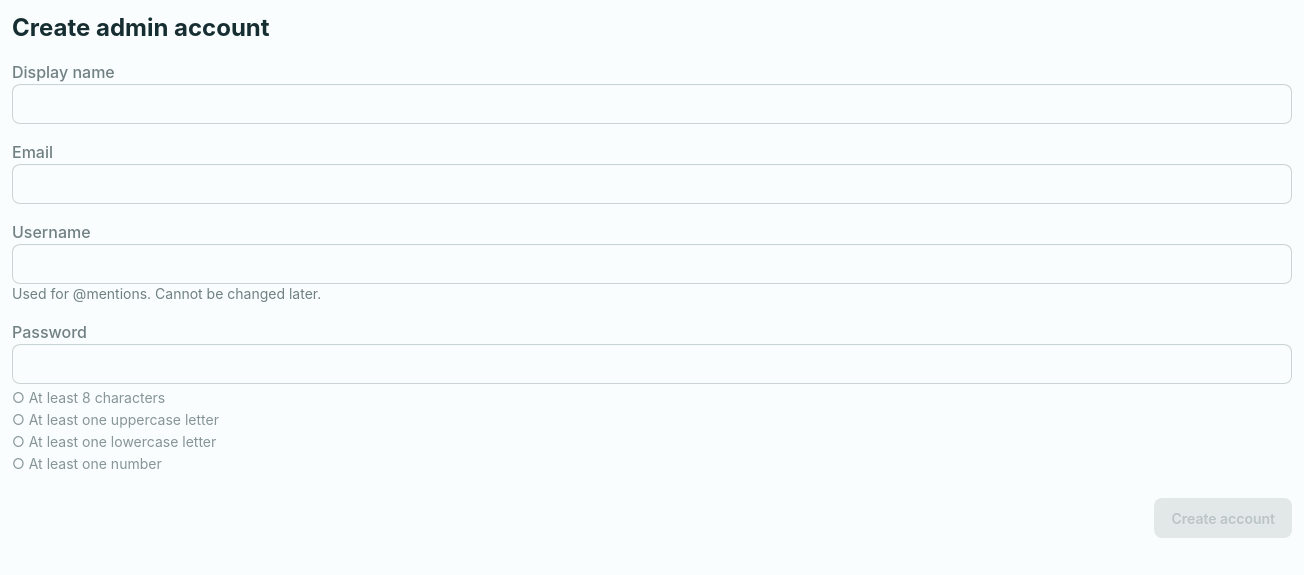
first administrator step: username › shows a server rejection on the username field
In the field with id "admin-name": (652,104) 12,84 -> 1292,124, type "Root"
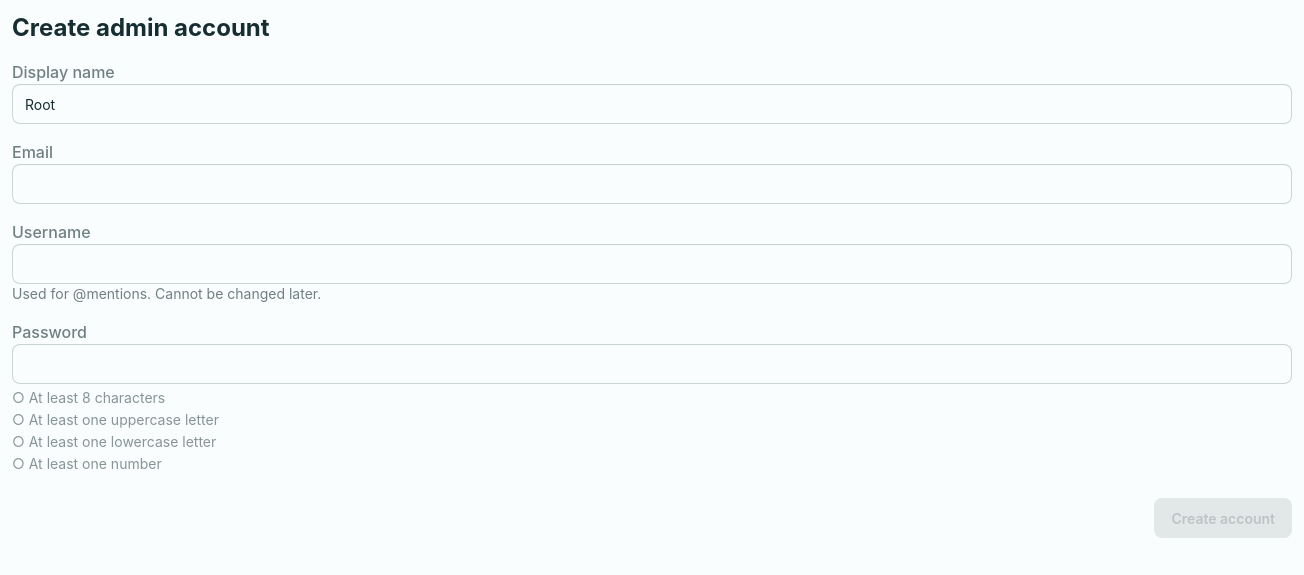
In the field with id "admin-email": (652,184) 12,164 -> 1292,204, type "admin@example.com"
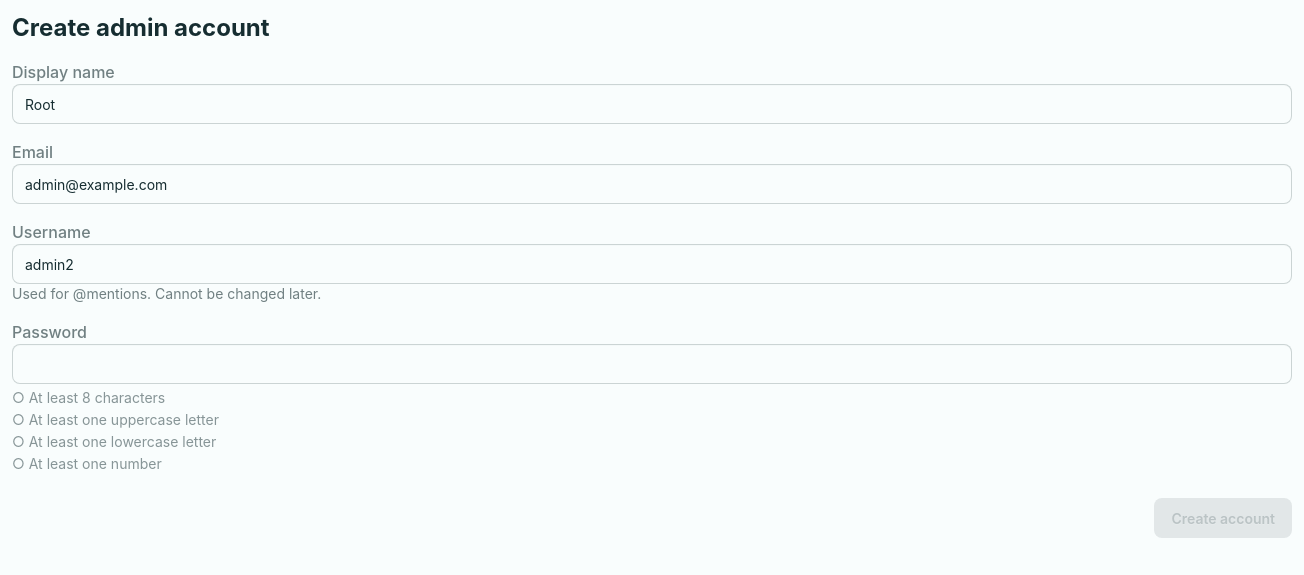
In the password field with id "admin-password": (652,364) 12,344 -> 1292,384, type "Passw0rd!x"
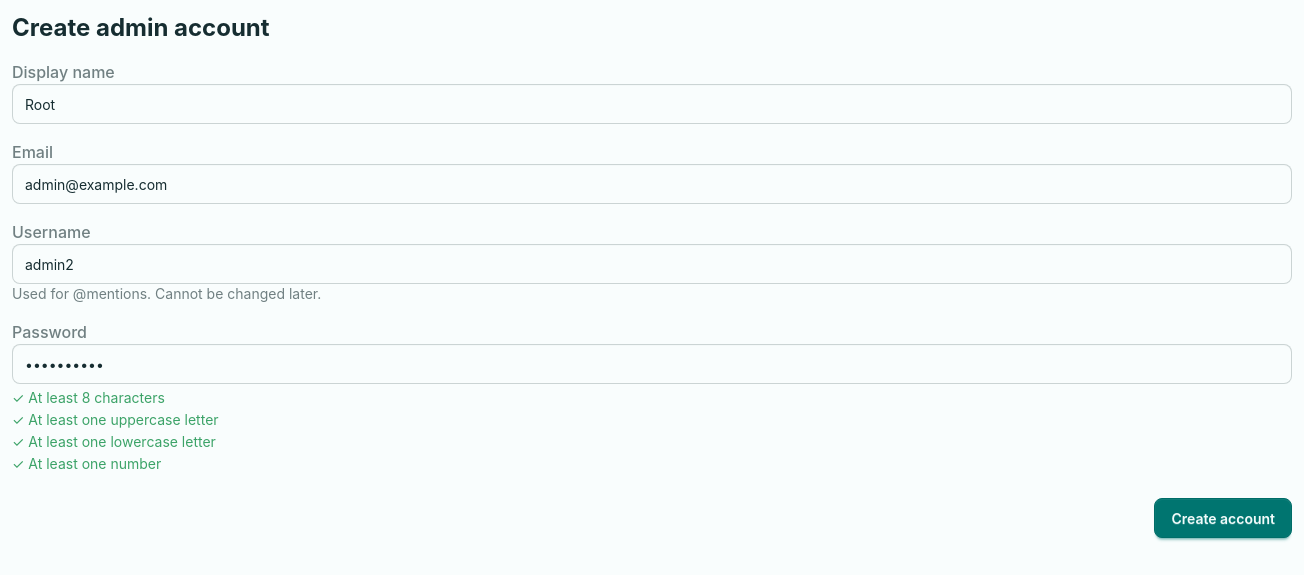
Replace the text in the field with id "admin-username" with "root_user": (652,264) 12,244 -> 1292,284
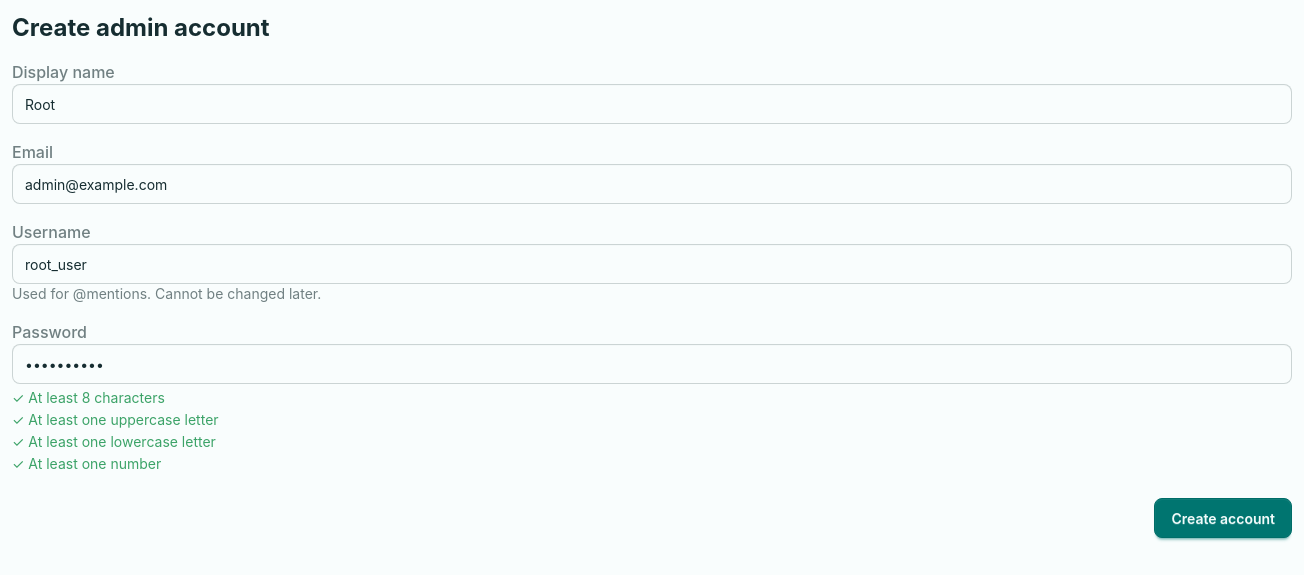
Click the button "Create account": (1223,518) 1154,498 -> 1292,538
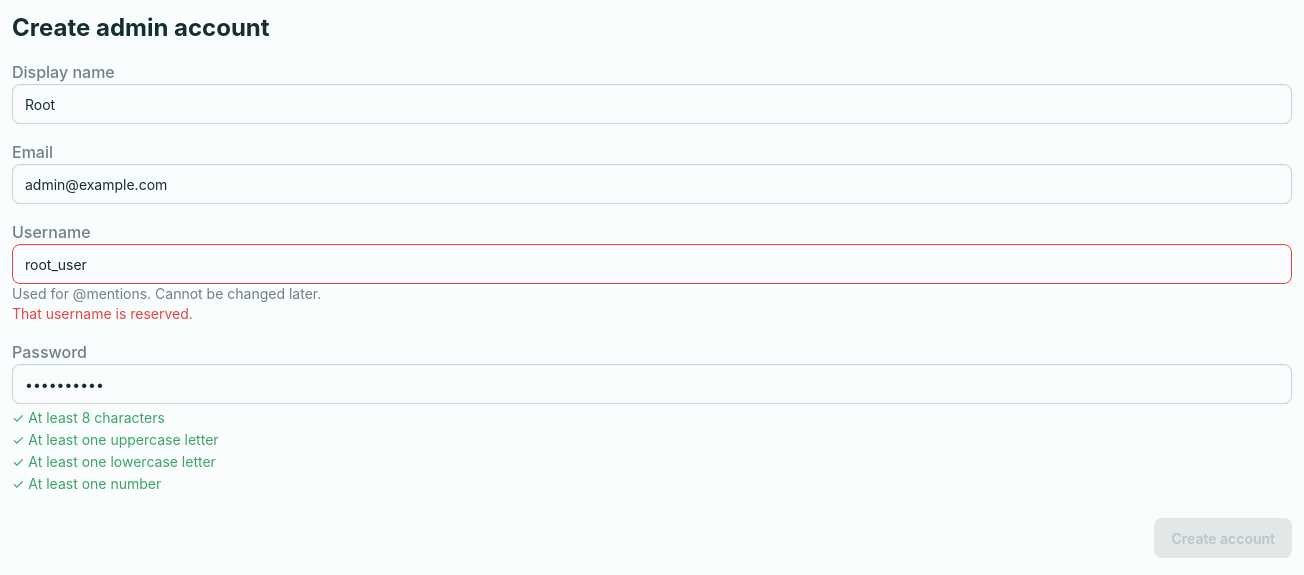
Expected: the message with test id "username-status" reads "That username is reserved.", 12,305 -> 193,322
